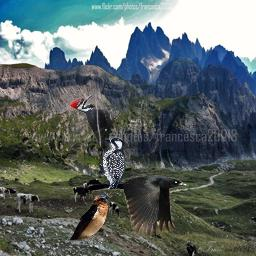Crow: (86, 174, 189, 236)
Swallow: (69, 194, 108, 245)
Woodpecker: (68, 94, 121, 172), (97, 136, 126, 189)
